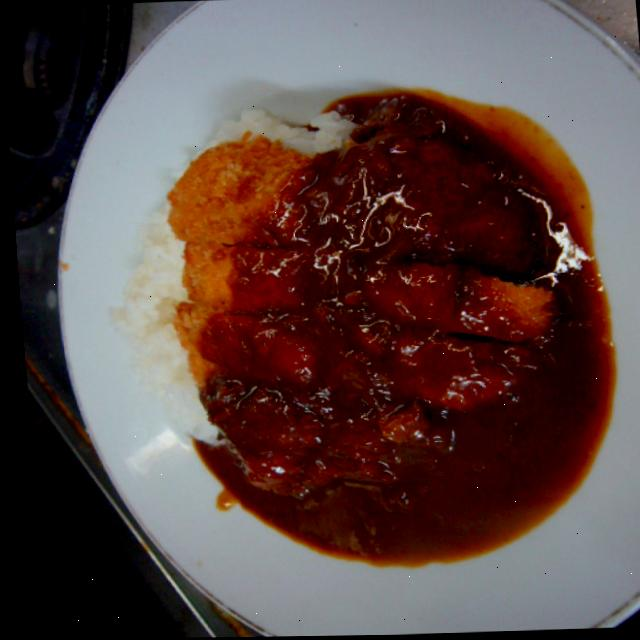猪肉菜式: (27, 0, 640, 640)
